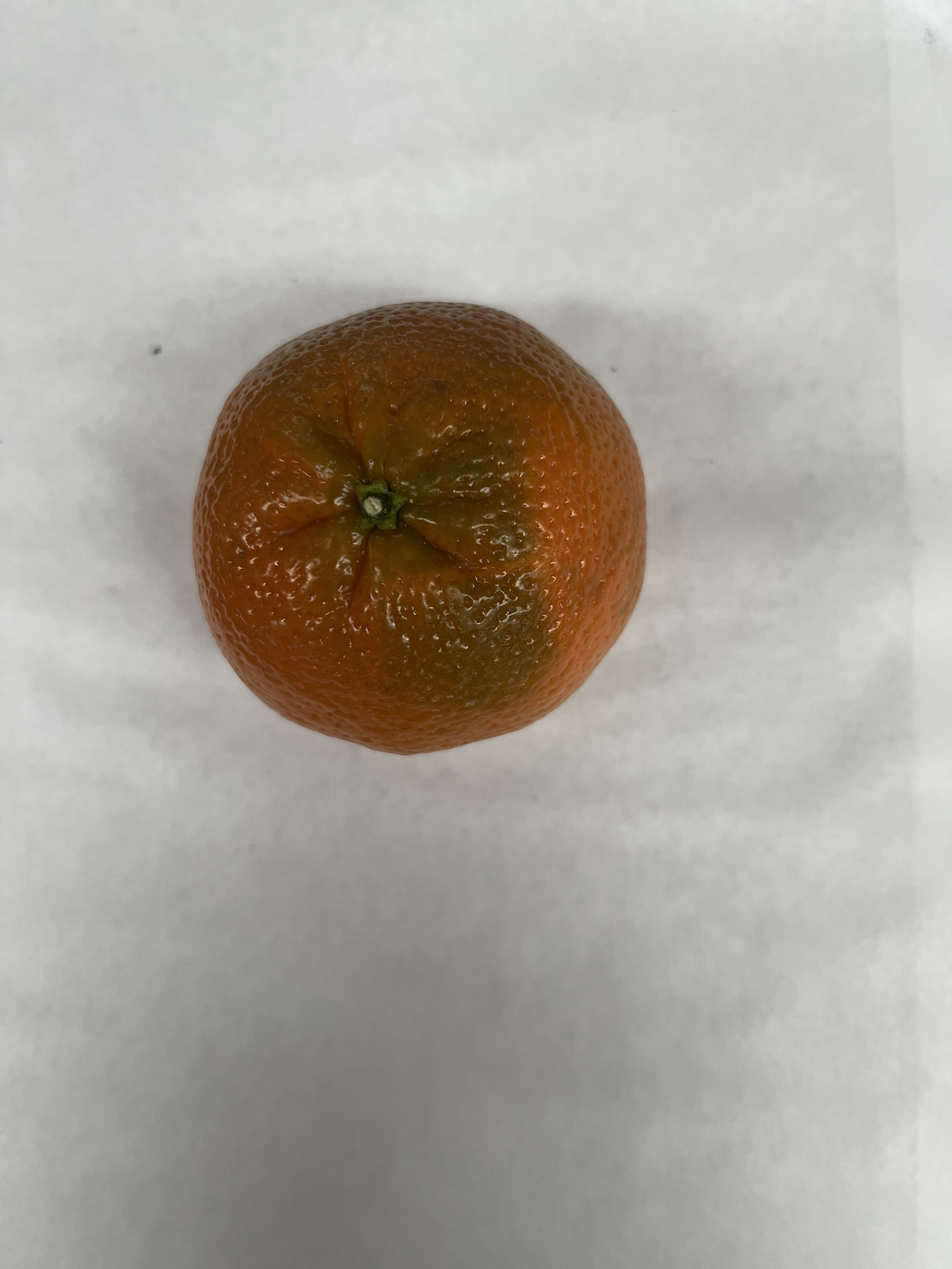discoloration: (298, 381, 554, 709)
